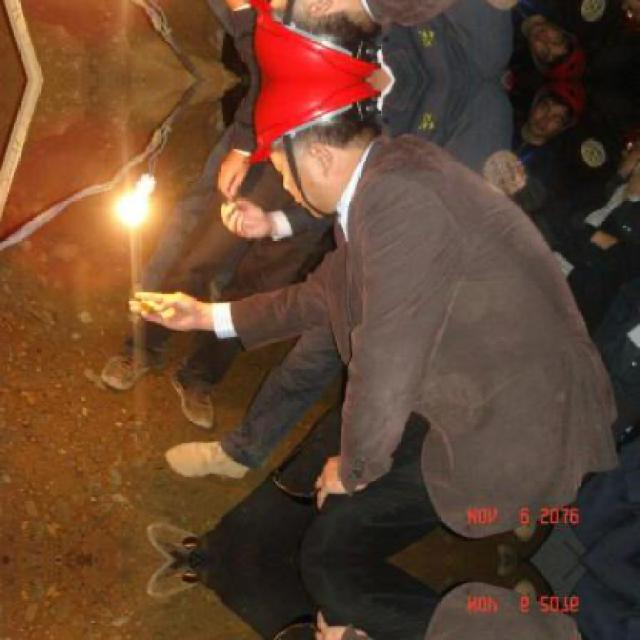helmet: (229, 81, 391, 214), (228, 0, 390, 80), (518, 15, 592, 76), (518, 86, 592, 146)
